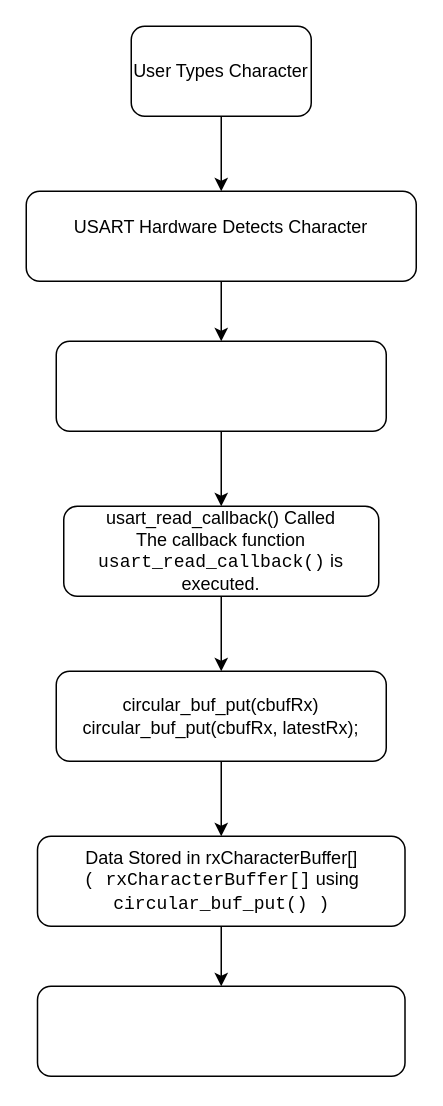
The diagram is 443 pixels wide and 1106 high, and some of its shapes have lost their labels. The box of each missing label's shape, as (x1, y1, x2, y2) in pixels:
Data Available for Processing SerialConsoleReadCharacter(): (36, 985, 405, 1076)
USART Interrupt Triggered usart_read_callback(): (55, 340, 386, 431)
